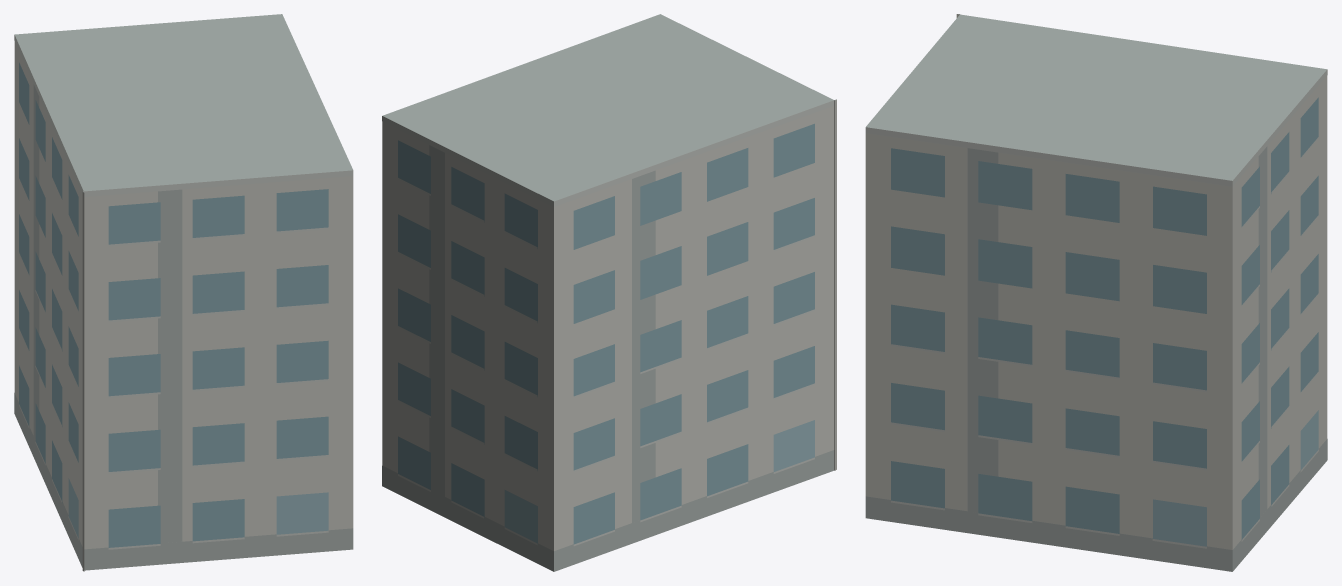
File: survey-upis-33023254.glb
3 renders of one model, left to right at view 1: azimuth 30°, elevation 25°; view 2: azimuth 150°, elevation 25°; view 3: azimuth 270°, elevation 25°, orthographic. The views are drawn at different scales.
Parts seen in each view (by area): view 1: survey-upis-33023254.tmp; view 2: survey-upis-33023254.tmp; view 3: survey-upis-33023254.tmp.
Part boxes in pixels (<box>): survey-upis-33023254.tmp: <box>14,14,353,571</box>; survey-upis-33023254.tmp: <box>382,14,836,571</box>; survey-upis-33023254.tmp: <box>865,14,1327,571</box>.
Bounding box in the file's own units: 14.56 × 15.9 × 17.03.
